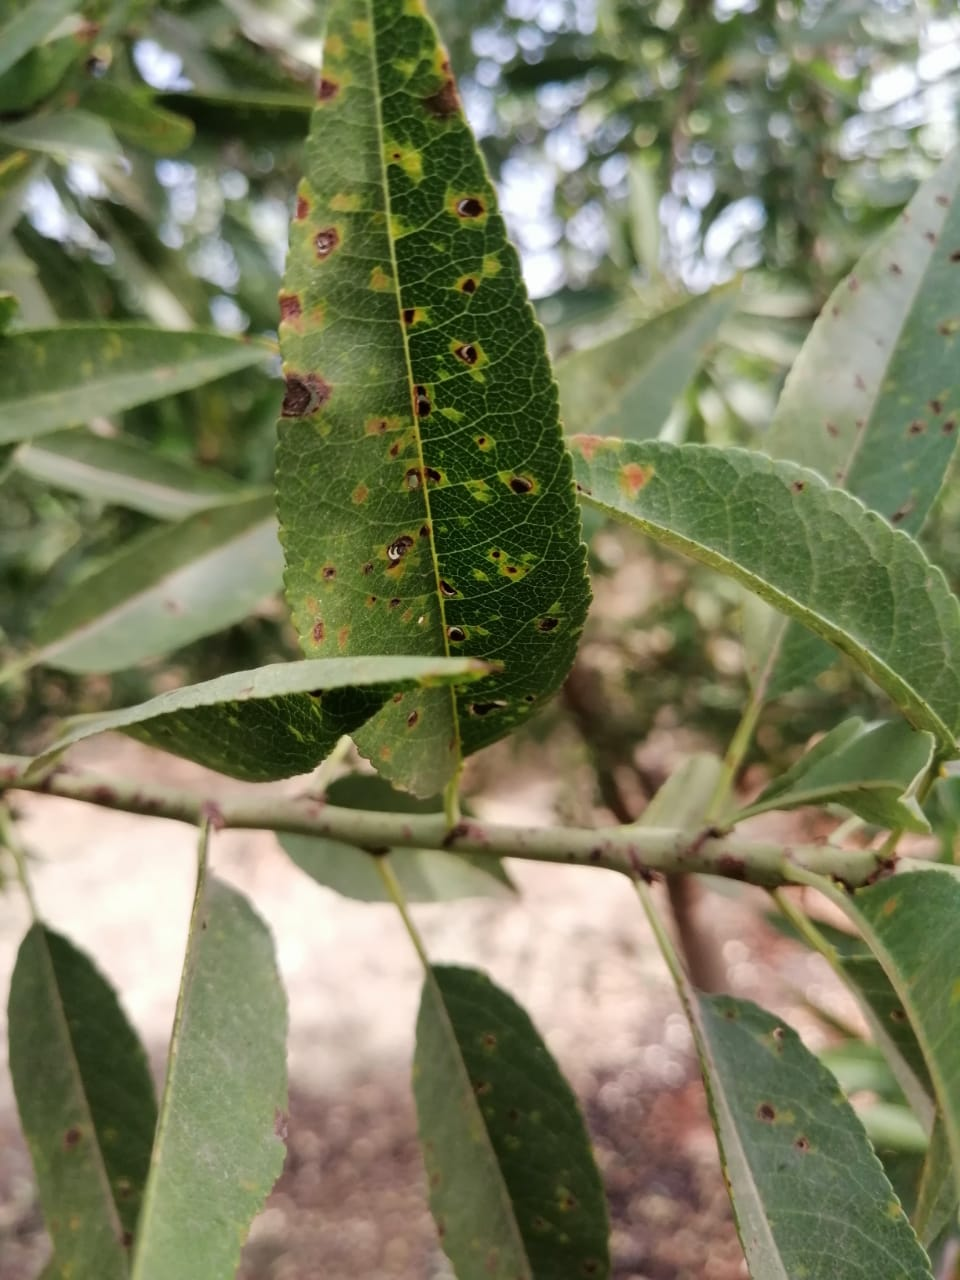coryneum: (271, 1, 595, 803), (745, 130, 960, 696)
polystigma: (264, 1, 601, 807), (564, 434, 960, 741)
